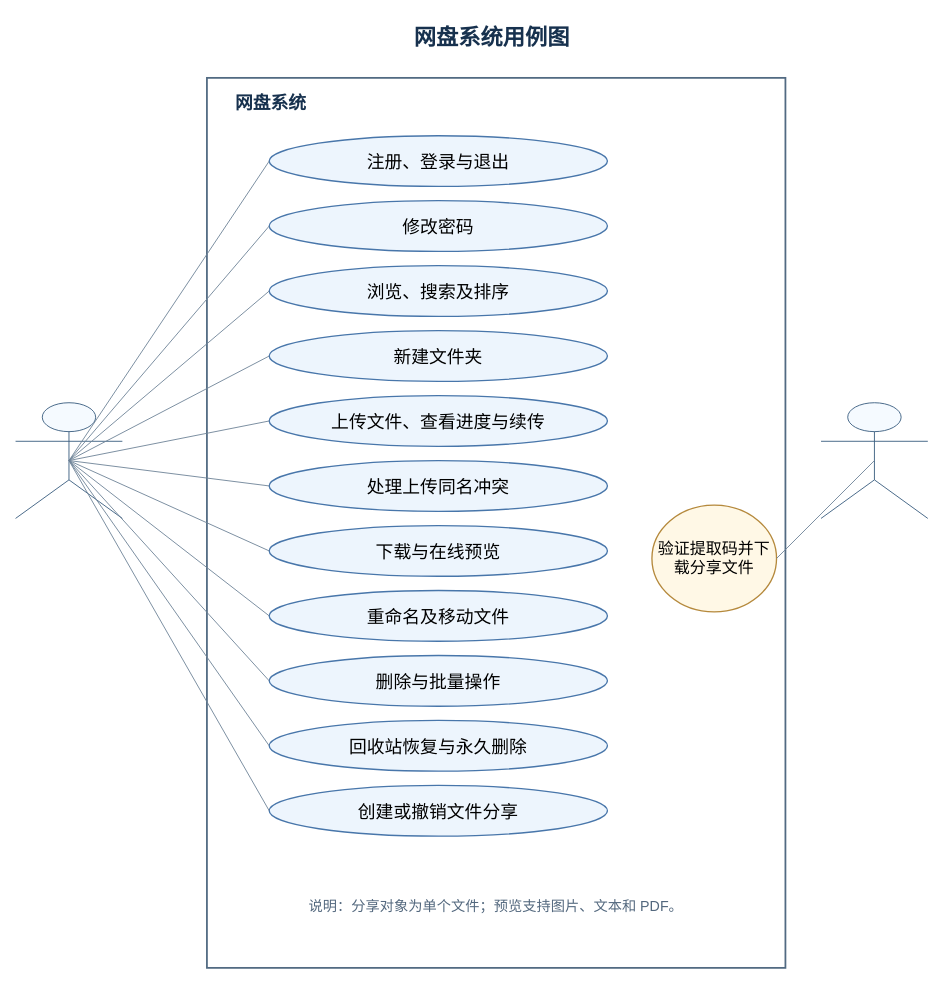
Some shapes in this 943 by 983 pixel diagram are drawn without their labels. The centre of each missing label's shape, as x and y in pixels:
分享访问者: (x=874, y=460)
网盘用户: (x=68, y=460)
